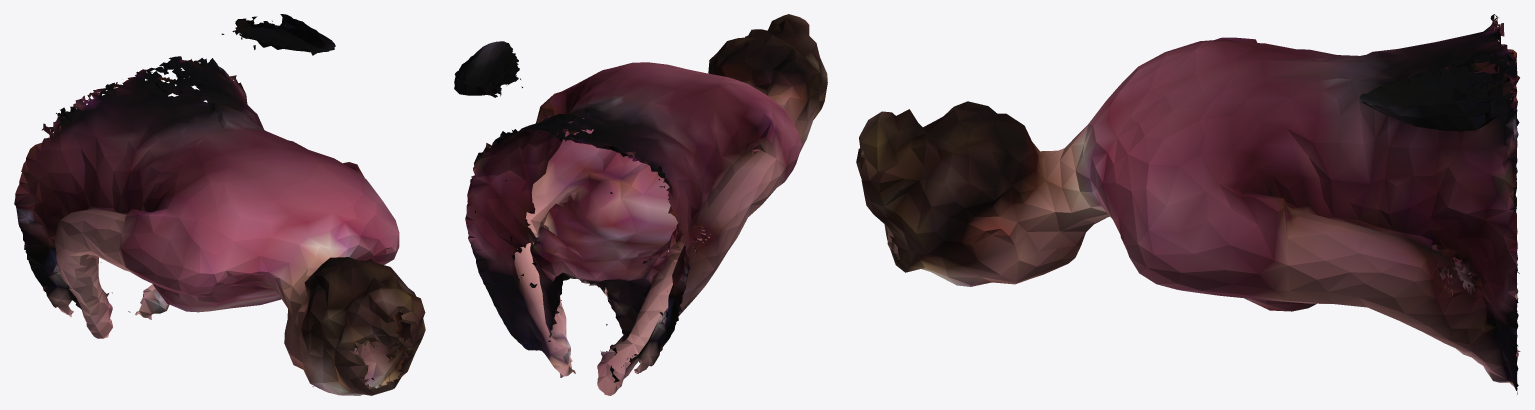
File: bri.obj
The picture shows the model from 3 angles, left to right: view 1: azimuth 30°, elevation 25°; view 2: azimuth 150°, elevation 25°; view 3: azimuth 270°, elevation 25°; orthographic projection. The views are drawn at different scales.
Size of the model in its own units: 0.495 by 0.5115 by 0.8002.
